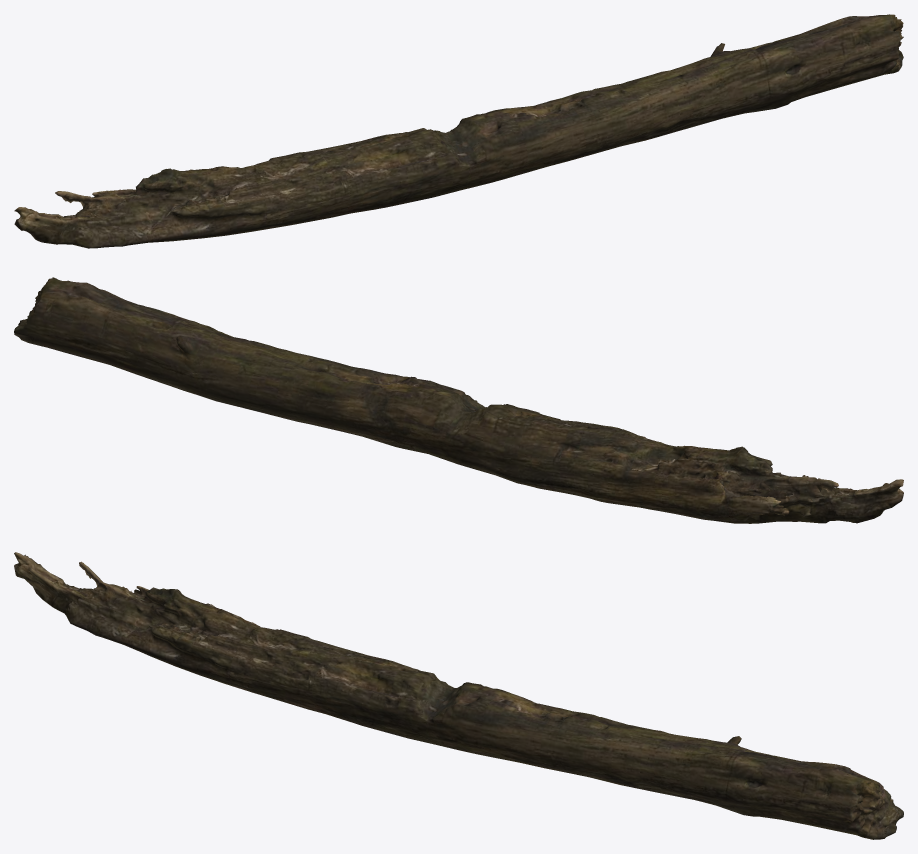
Rendered from dead_tree_trunk.glb.
The picture shows the model from 3 angles, top to bottom: view 1: azimuth 30°, elevation 25°; view 2: azimuth 150°, elevation 25°; view 3: azimuth 330°, elevation 25°; orthographic projection.
Parts seen in each view (by area): view 1: dead_tree_trunk; view 2: dead_tree_trunk; view 3: dead_tree_trunk.
Boxes of the visible parts, box(x1,y1,x2,y2) form: dead_tree_trunk: box(14, 14, 903, 248); dead_tree_trunk: box(14, 277, 903, 523); dead_tree_trunk: box(14, 552, 903, 839).
Size of the model in its own units: 3.05 by 0.2898 by 0.2775.
1 material, 1 textured.
